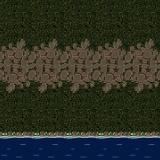Interaction: (0, 122, 160, 144)
Slow: (0, 138, 159, 160)
